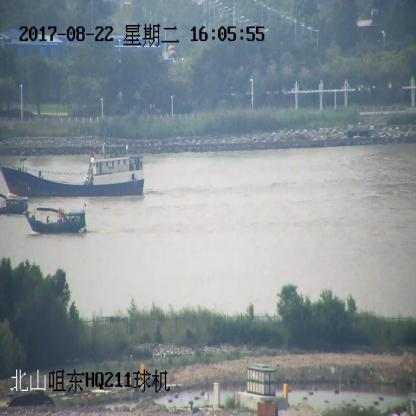Fishing Boat: (0, 143, 146, 199), (26, 205, 87, 234), (0, 194, 28, 215)
